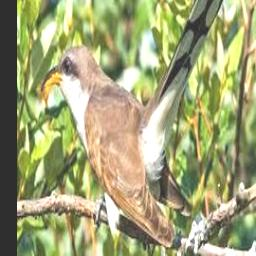Cuckoo: (40, 0, 228, 246)
